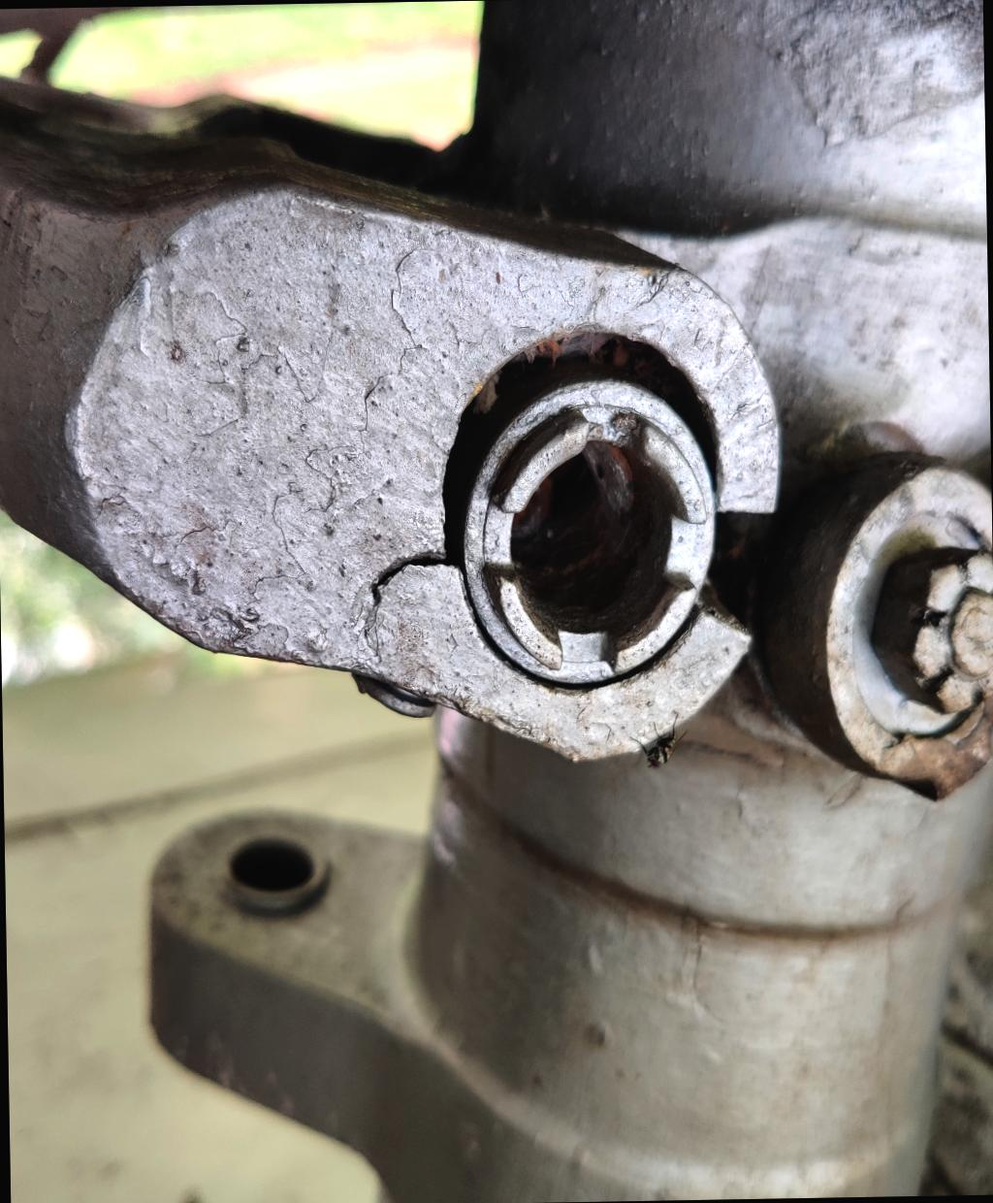crack: (350, 539, 463, 653)
